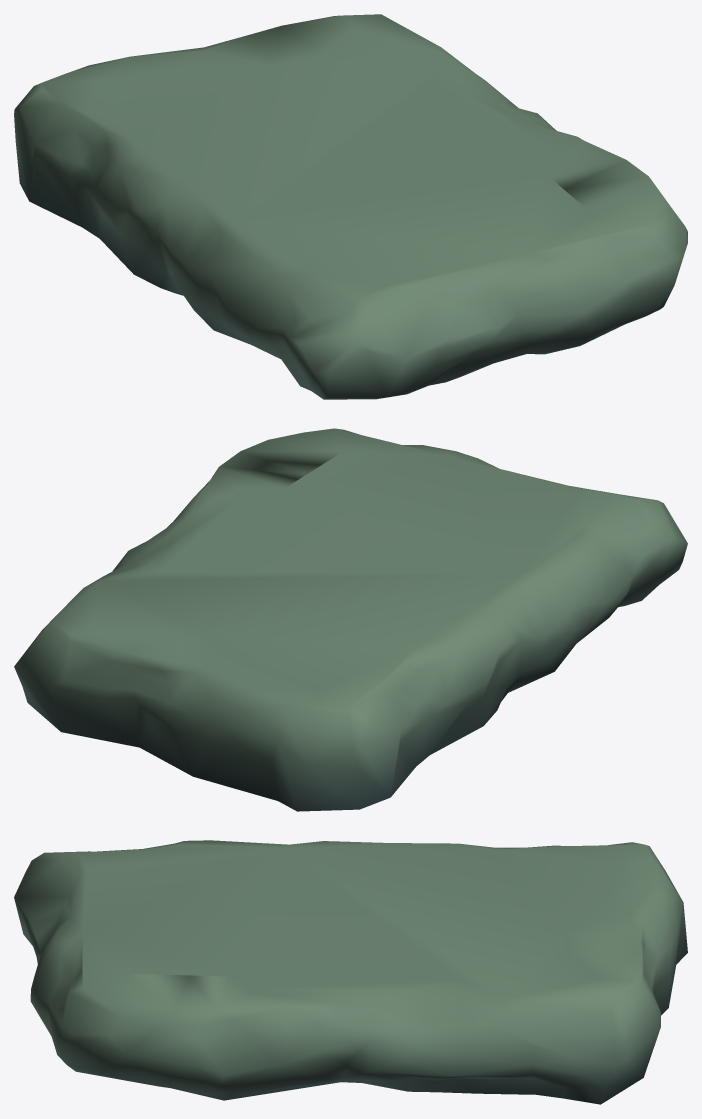
The model's file is FBX_Terrain_1.fbx.
3 renders of one model, top to bottom at view 1: azimuth 30°, elevation 25°; view 2: azimuth 150°, elevation 25°; view 3: azimuth 270°, elevation 25°, orthographic. The views are drawn at different scales.
Visible parts, largest first — view 1: Cube_3; view 2: Cube_3; view 3: Cube_3.
Boxes of the visible parts, left/top/right/bottom form: Cube_3: left=14, top=14, right=687, bottom=399; Cube_3: left=14, top=428, right=687, bottom=811; Cube_3: left=14, top=840, right=687, bottom=1104.
Bounding box in the file's own units: 565 × 802 × 126.
